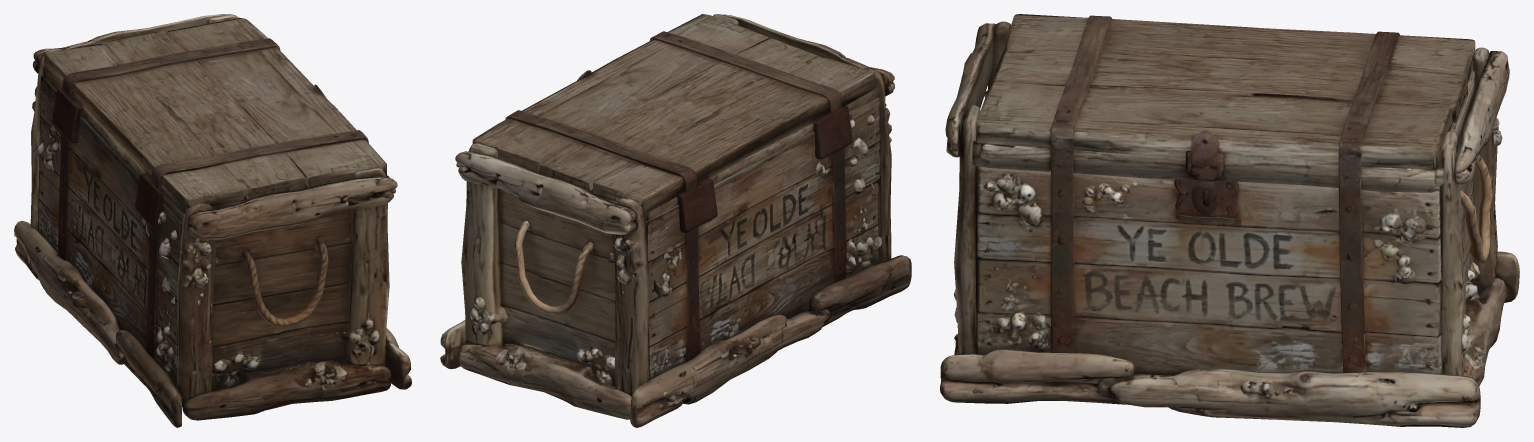
File: cooler_v2.glb
3 views of the same model, side by side, from view 1: azimuth 30°, elevation 25°; view 2: azimuth 150°, elevation 25°; view 3: azimuth 270°, elevation 25° (orthographic). The views are drawn at different scales.
Visible parts, largest first — view 1: FG_Cooler_Body, FG_Cooler_Lid; view 2: FG_Cooler_Body, FG_Cooler_Lid; view 3: FG_Cooler_Body, FG_Cooler_Lid.
Boxes of the visible parts, x1,y1,x2,y2 form: FG_Cooler_Body: (14, 14, 411, 427); FG_Cooler_Lid: (32, 18, 389, 303); FG_Cooler_Body: (440, 14, 911, 427); FG_Cooler_Lid: (472, 14, 879, 297); FG_Cooler_Body: (940, 21, 1519, 427); FG_Cooler_Lid: (972, 14, 1475, 215).
Size of the model in its own units: 0.8273 by 0.6668 by 1.24.
1 material, 1 textured.
